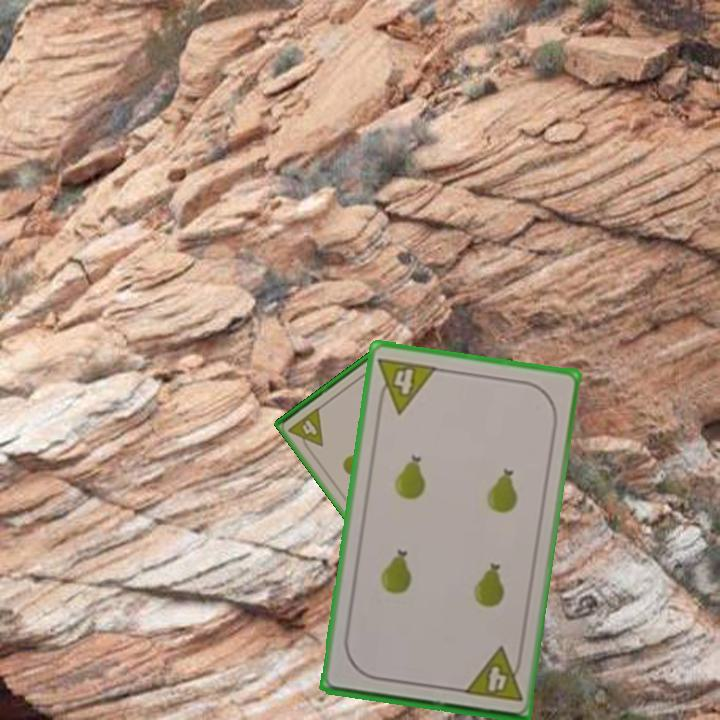4p: (373, 353, 440, 417), (460, 644, 525, 705), (285, 403, 327, 456)
